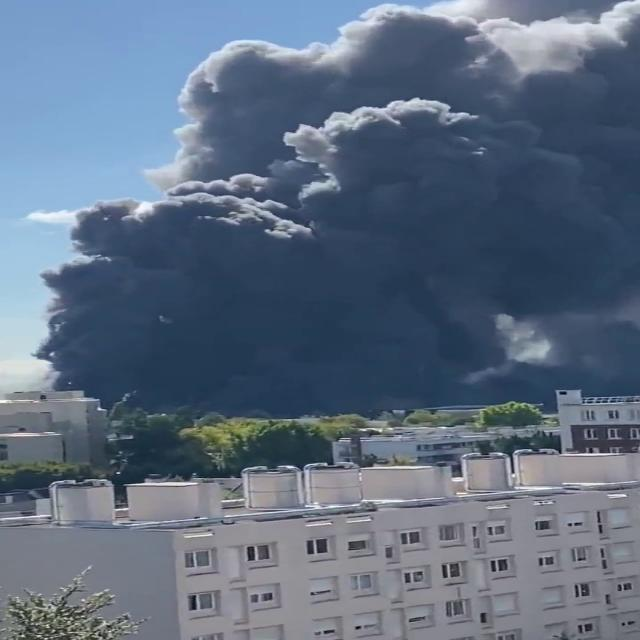Smoke: (34, 0, 640, 420)
